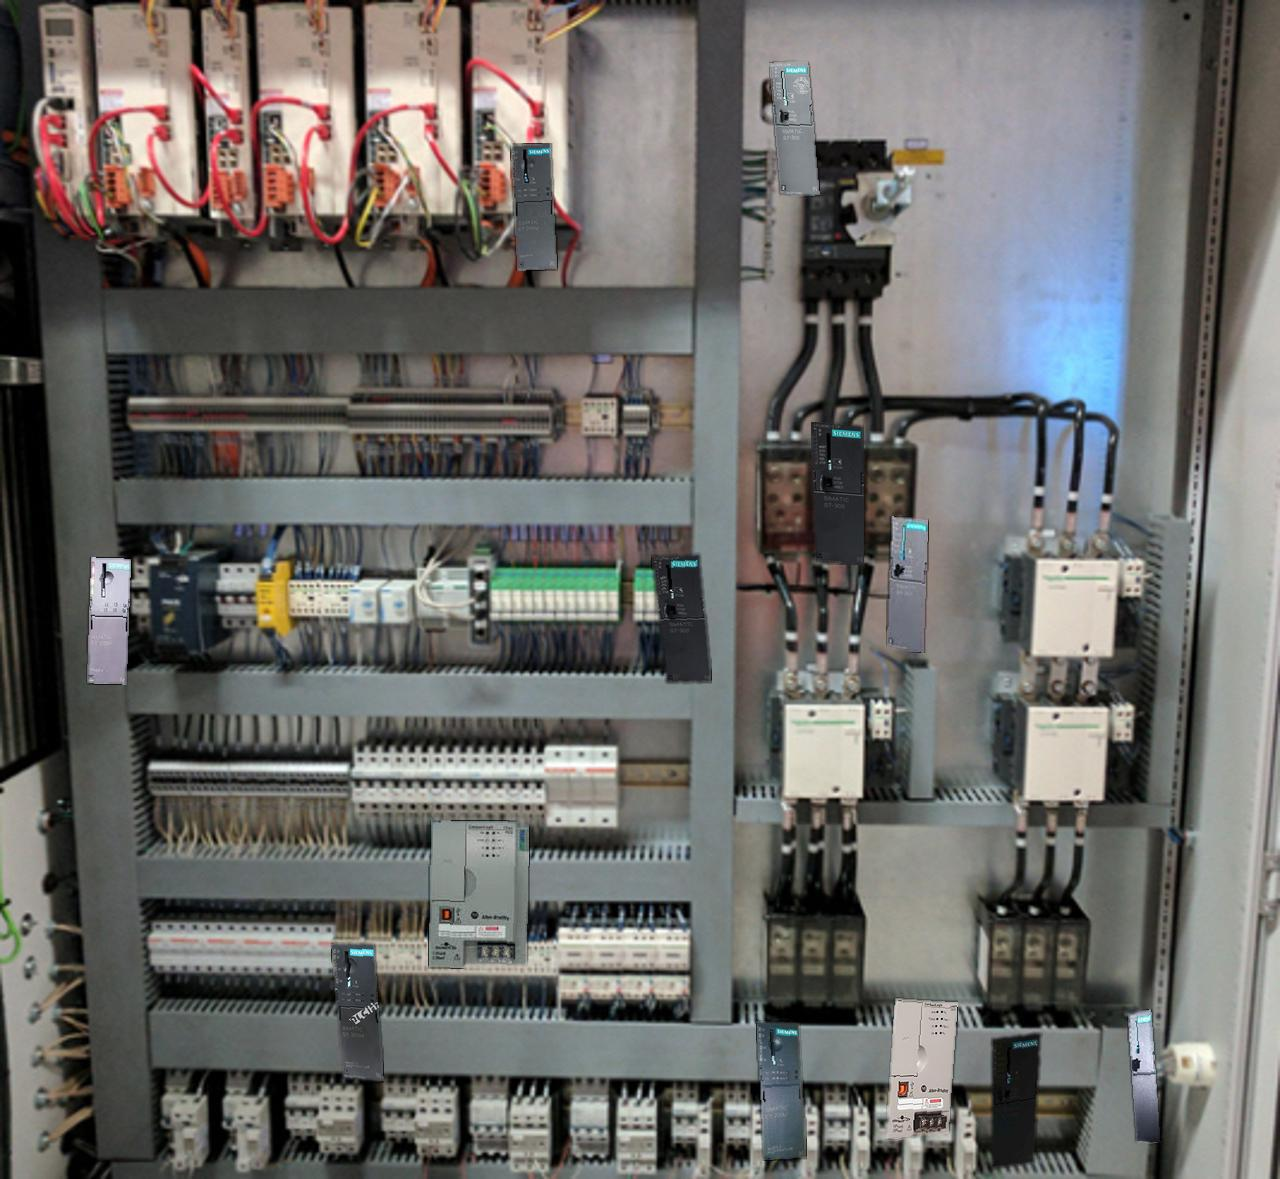AllenBradley: (429, 820, 529, 967), (888, 999, 957, 1138)
Siemens: (651, 554, 711, 682), (811, 422, 863, 564), (991, 1033, 1040, 1168), (770, 62, 820, 195), (888, 516, 927, 653), (1129, 1009, 1160, 1142)
